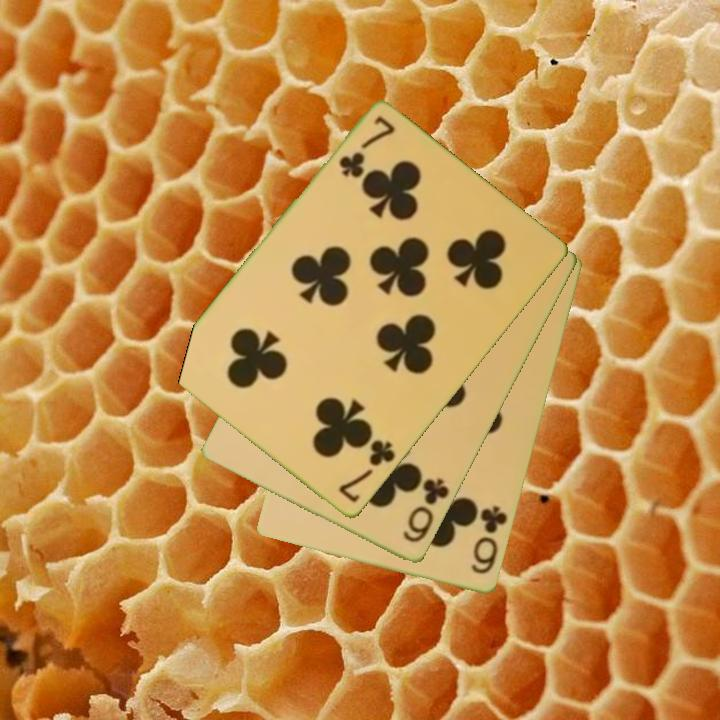6c: (399, 475, 453, 547), (467, 502, 511, 578)
7c: (335, 112, 399, 182), (335, 436, 398, 507)
